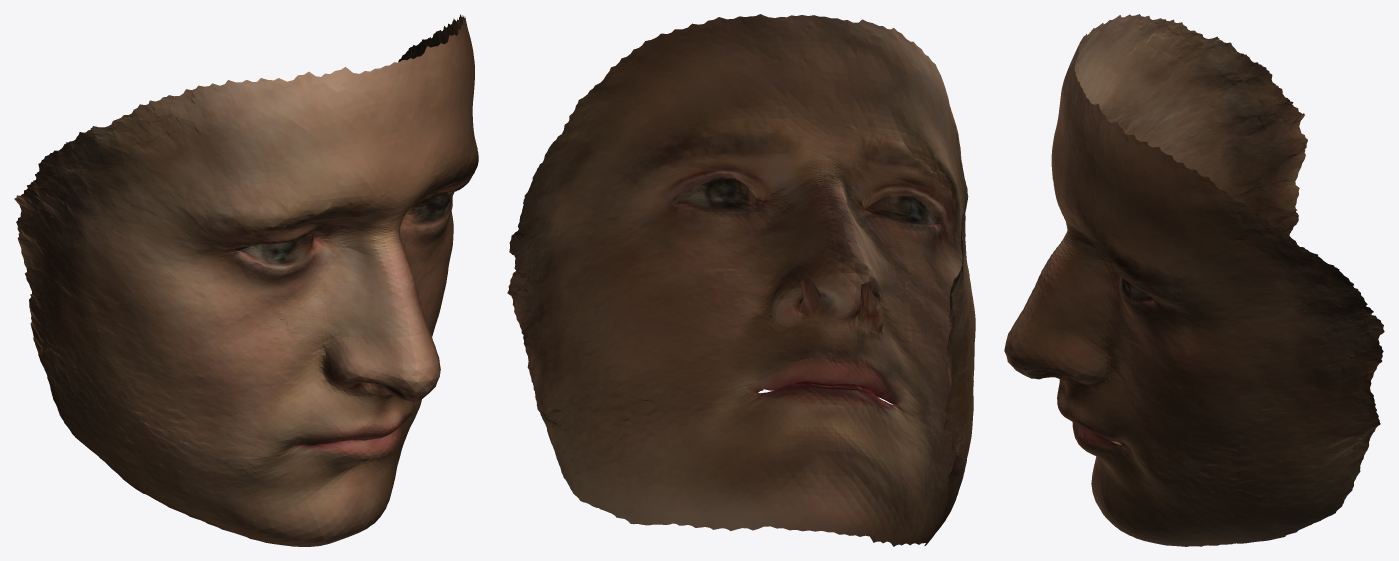
3 renders of one model, left to right at view 1: azimuth 30°, elevation 25°; view 2: azimuth 150°, elevation 25°; view 3: azimuth 270°, elevation 25°, orthographic. The views are drawn at different scales.
Bounding box in the file's own units: 1.51 × 1.74 × 1.28.
